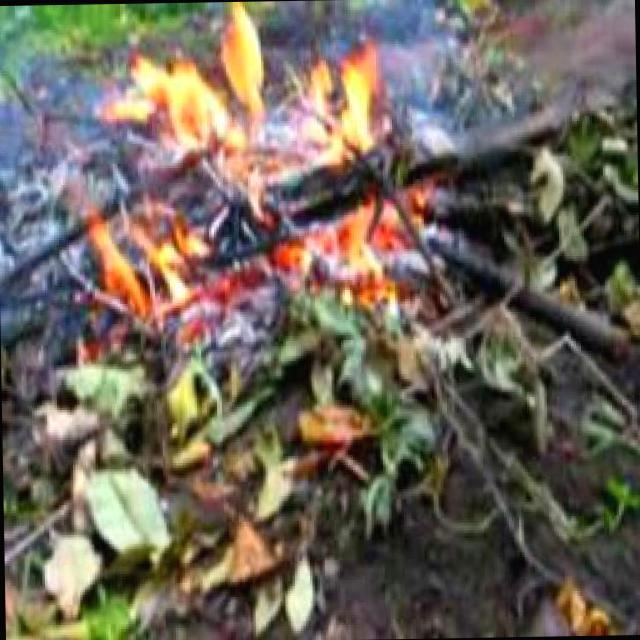Fire: (61, 14, 431, 321)
